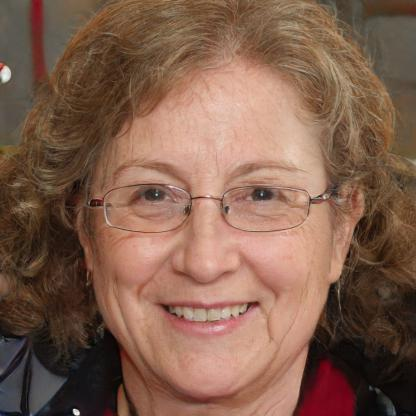glasses: (83, 179, 332, 236)
